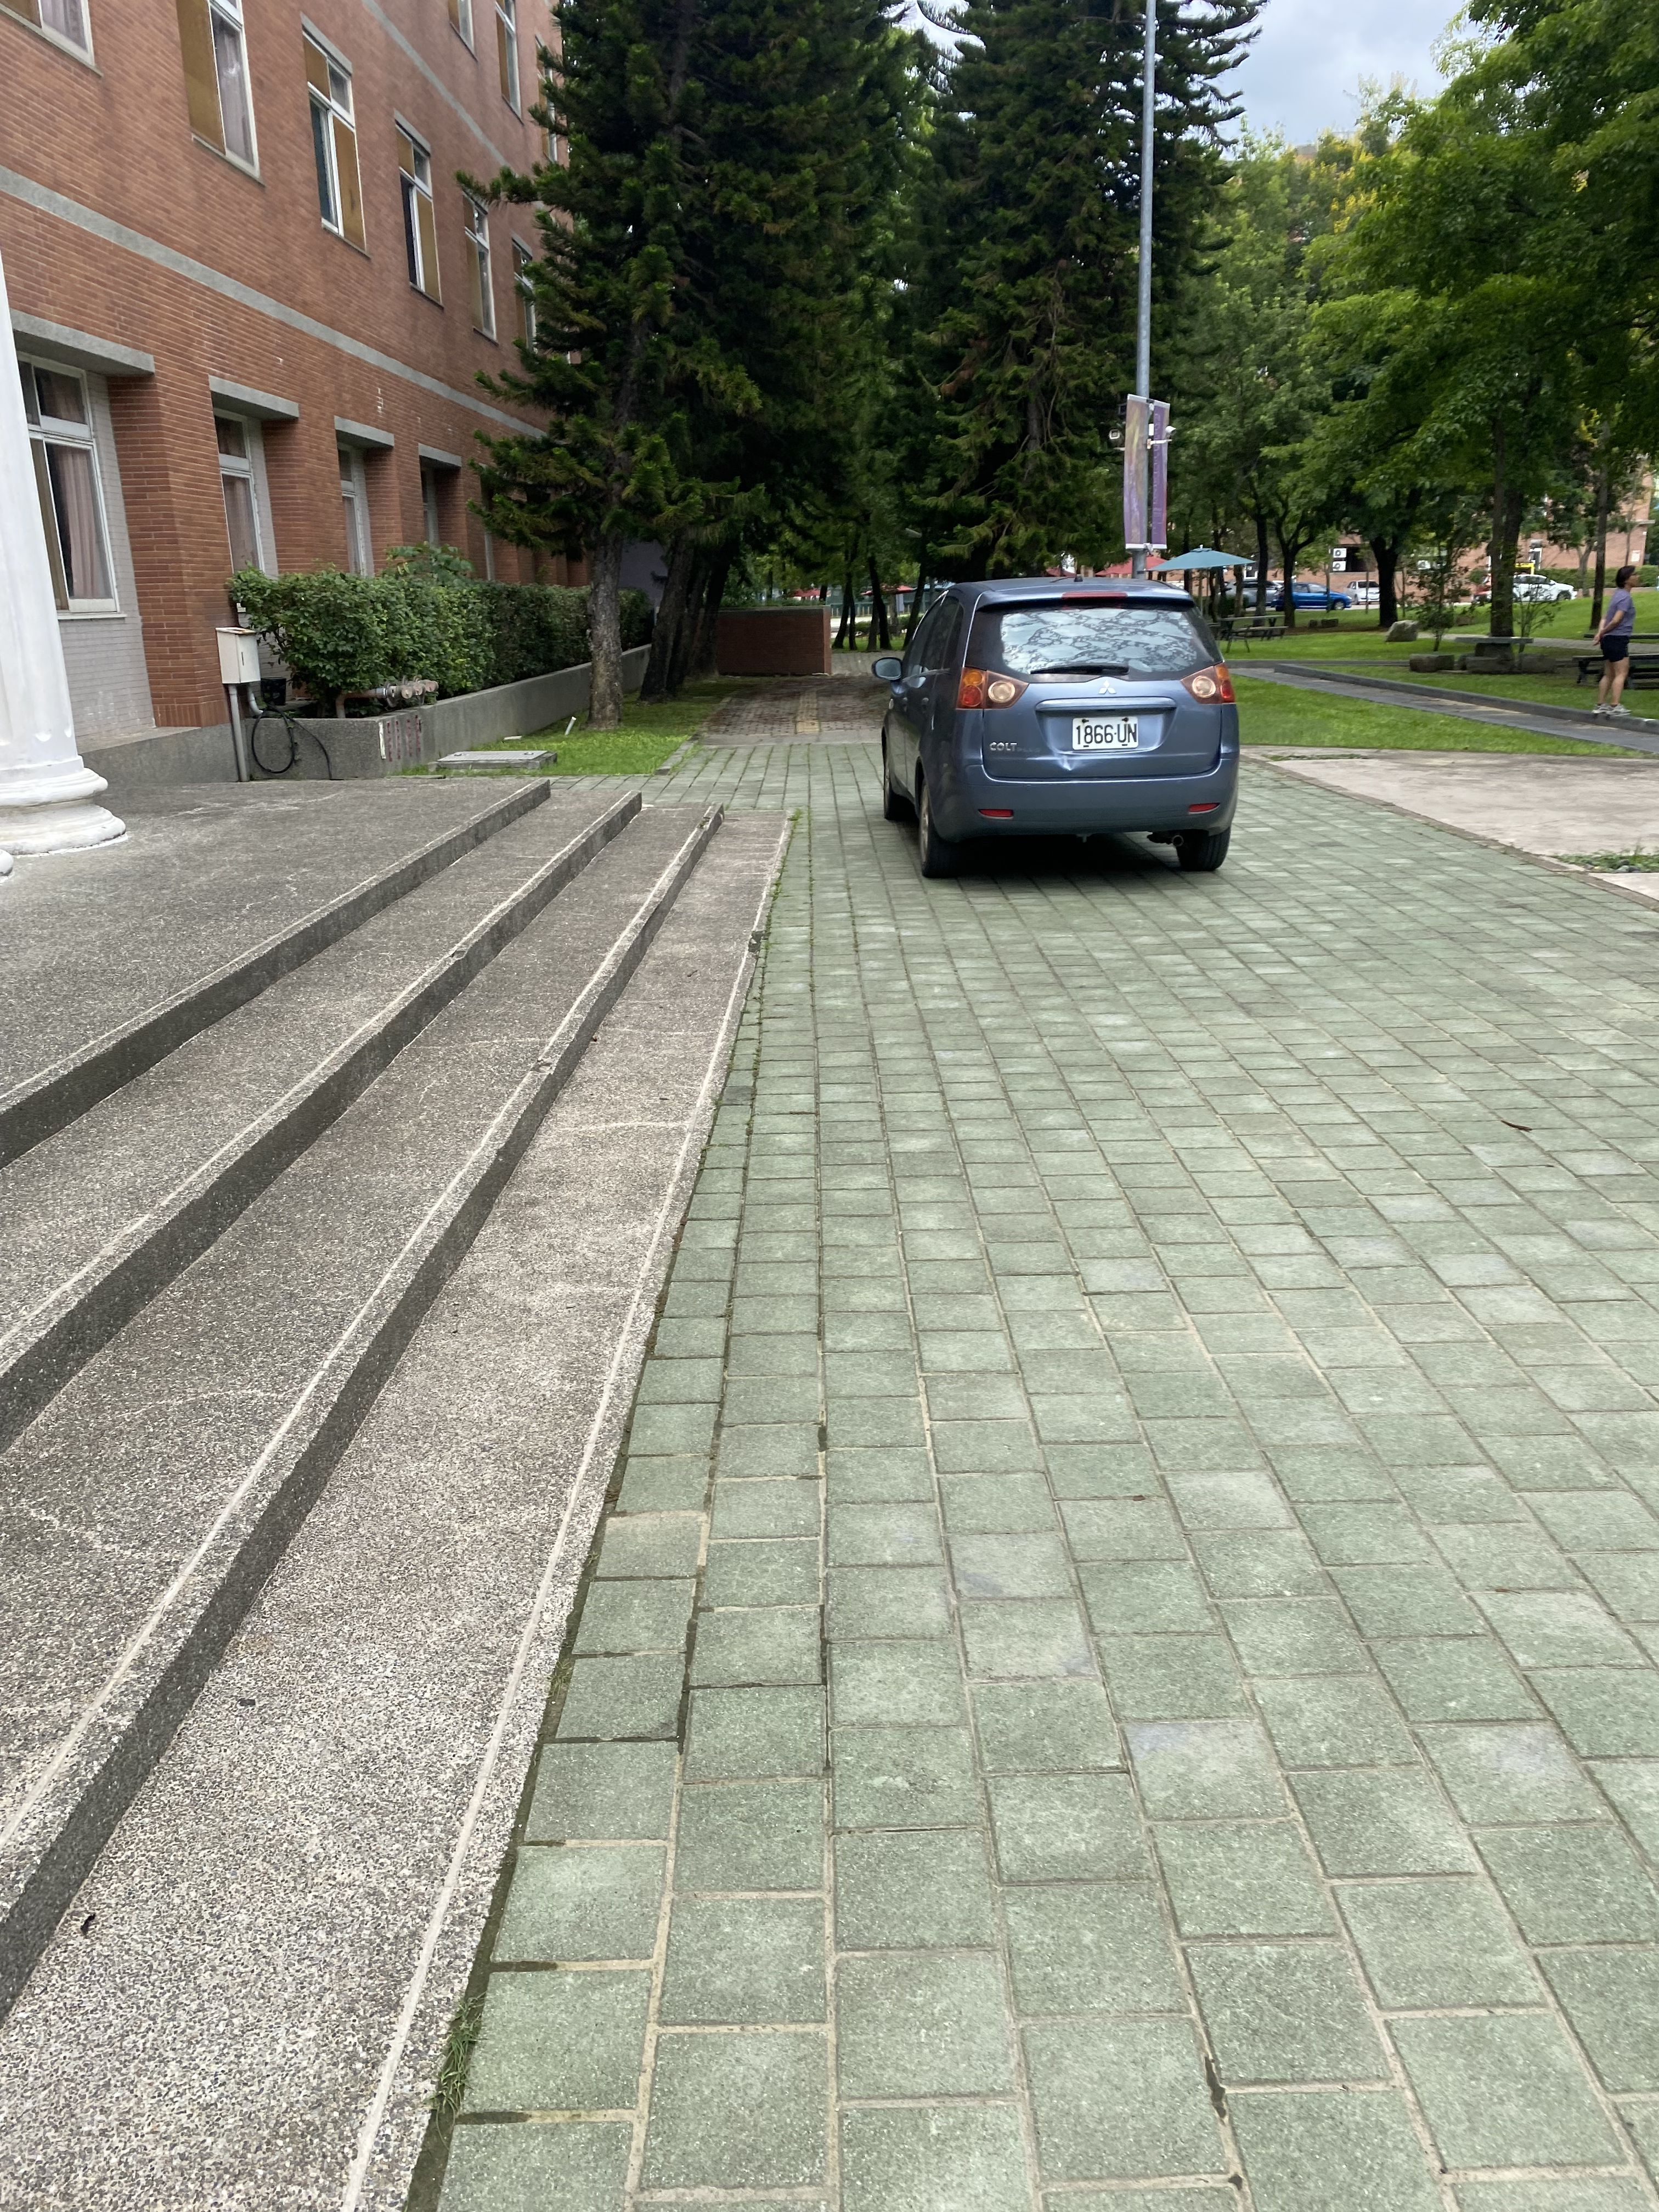sidewalk: (450, 674, 1659, 2212)
